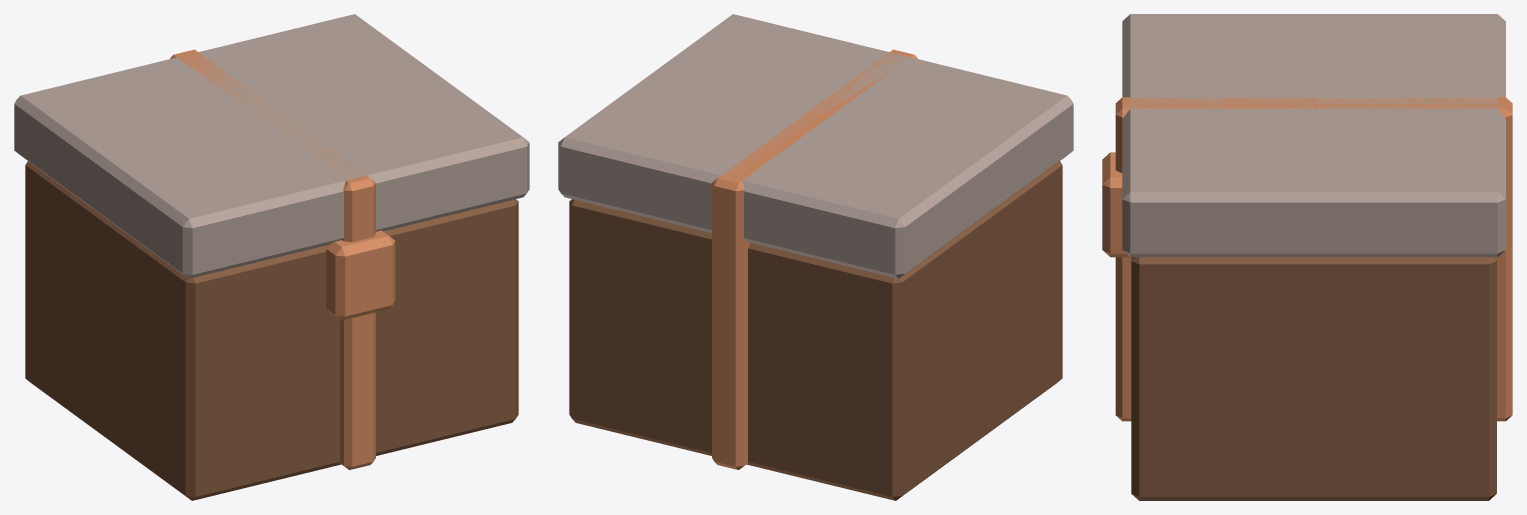
Rendered from treasure_chest.lod1.glb.
3 renders of one model, left to right at view 1: azimuth 30°, elevation 25°; view 2: azimuth 150°, elevation 25°; view 3: azimuth 270°, elevation 25°, orthographic. The views are drawn at different scales.
Size of the model in its own units: 0.98 by 0.774 by 0.9196.
